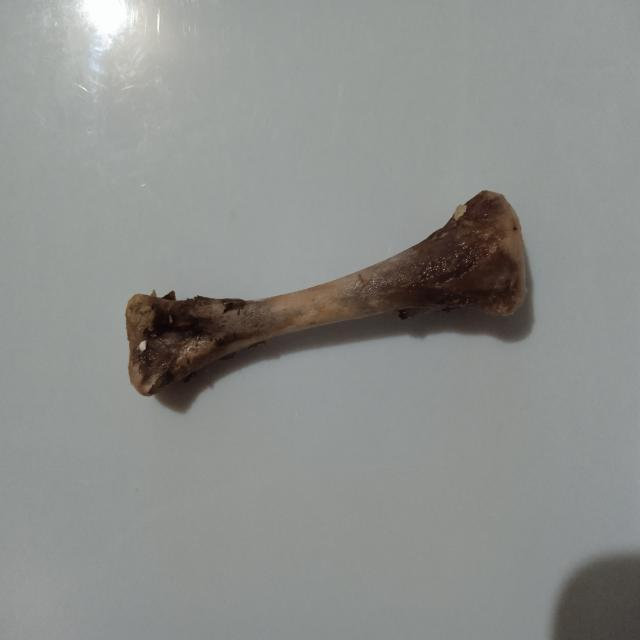bone: (121, 186, 536, 403)
